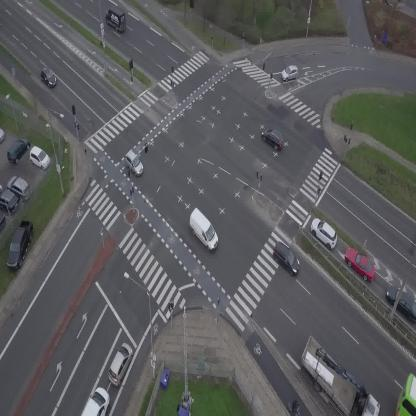bicycle: (287, 398, 301, 416)
car: (340, 242, 382, 285), (103, 340, 137, 388), (267, 240, 305, 278), (305, 213, 343, 251), (257, 122, 289, 153), (120, 149, 148, 178), (81, 387, 109, 416), (37, 66, 60, 89), (279, 64, 300, 82)
lorry: (286, 334, 387, 416), (181, 207, 225, 253), (101, 3, 133, 35)
